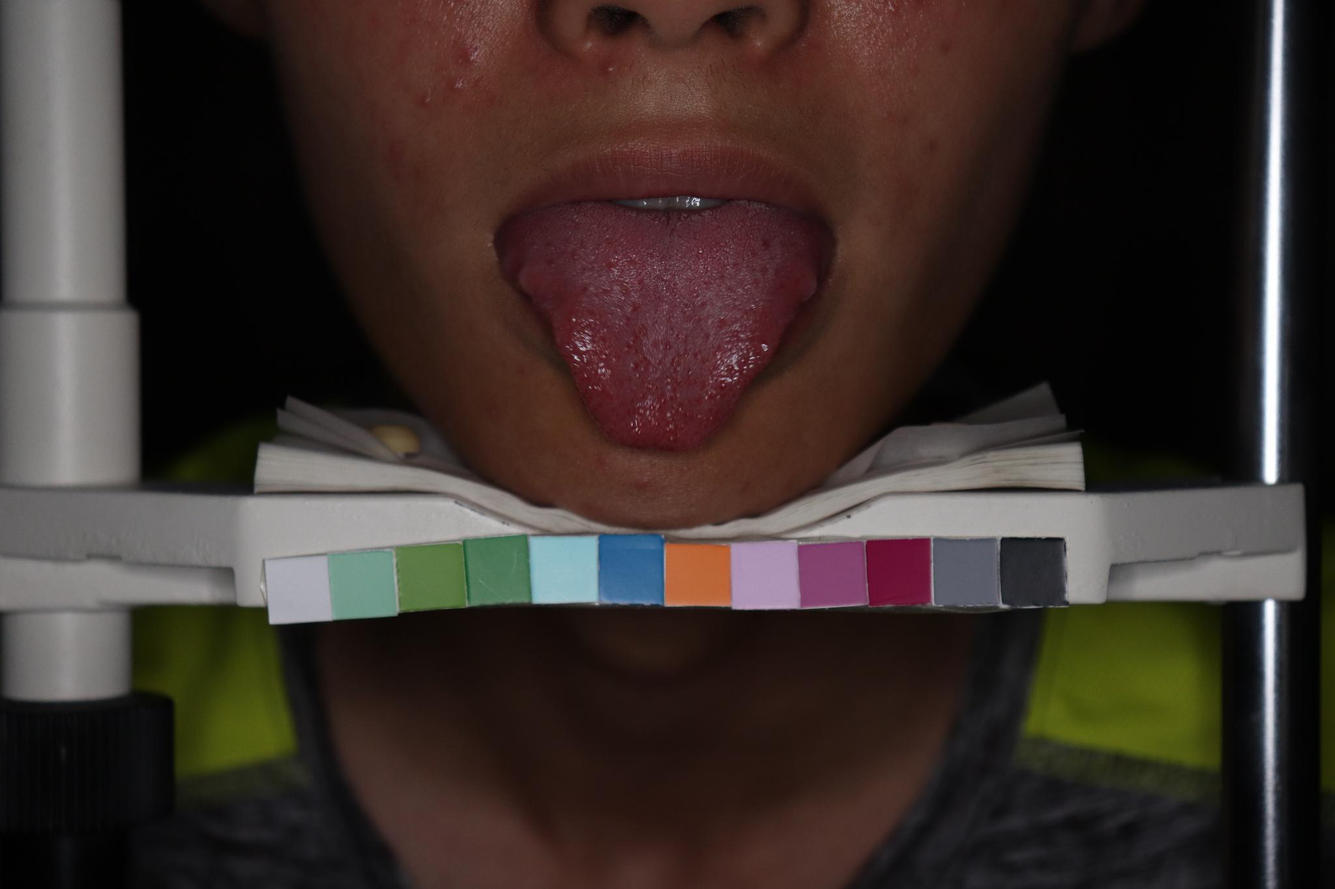baitaishe: (500, 196, 831, 451)
hongdianshe: (701, 331, 711, 342), (630, 360, 639, 371)
hongshe: (499, 196, 830, 451)
